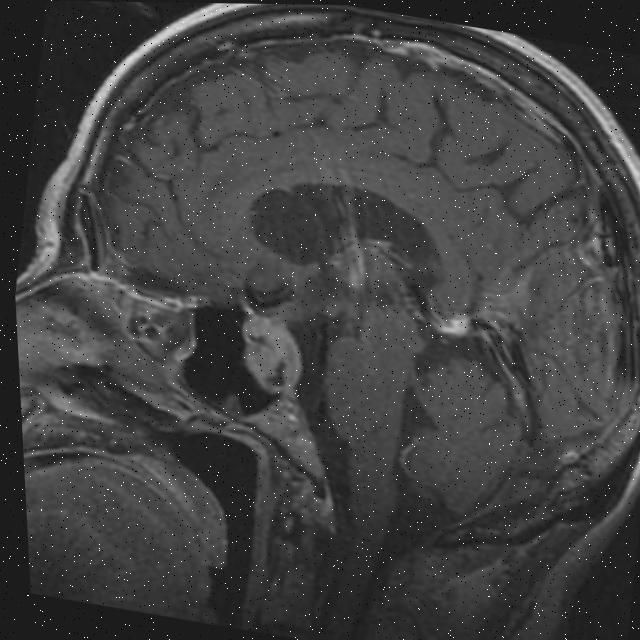Pituitary: (227, 311, 313, 400)
